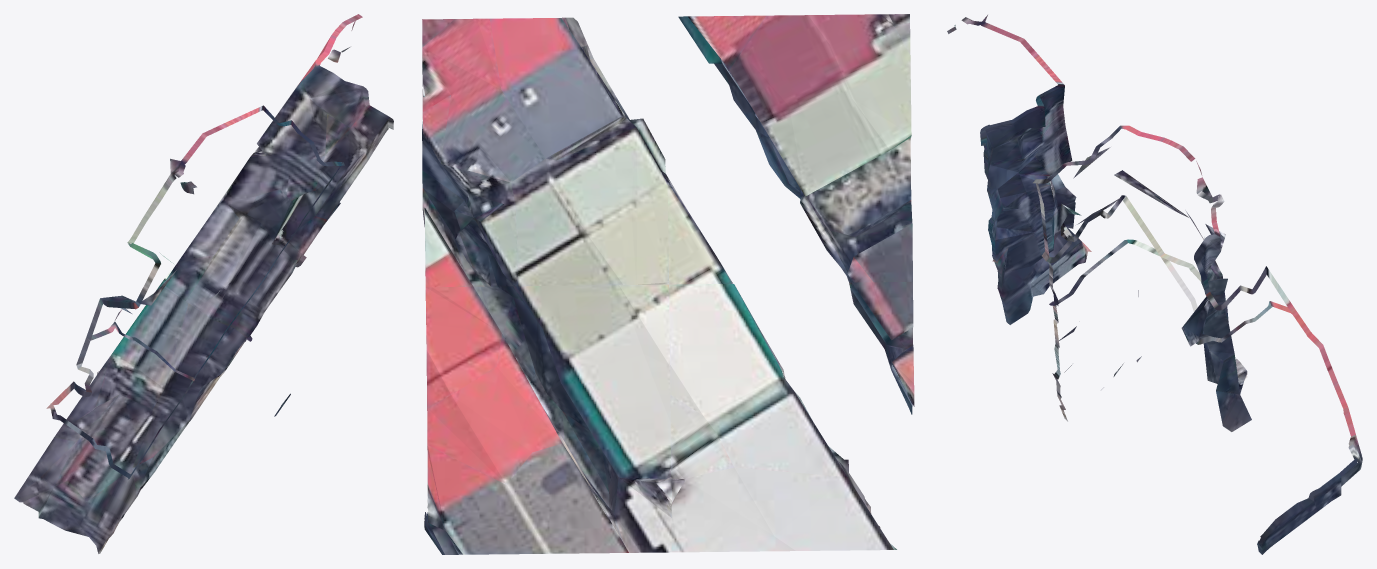
The picture shows the model from 3 angles, left to right: view 1: azimuth 30°, elevation 25°; view 2: azimuth 150°, elevation 25°; view 3: azimuth 270°, elevation 25°; orthographic projection. The views are drawn at different scales.
Size of the model in its own units: 36.37 by 38.86 by 34.61.
Materials: 2 (2 with a texture image).
